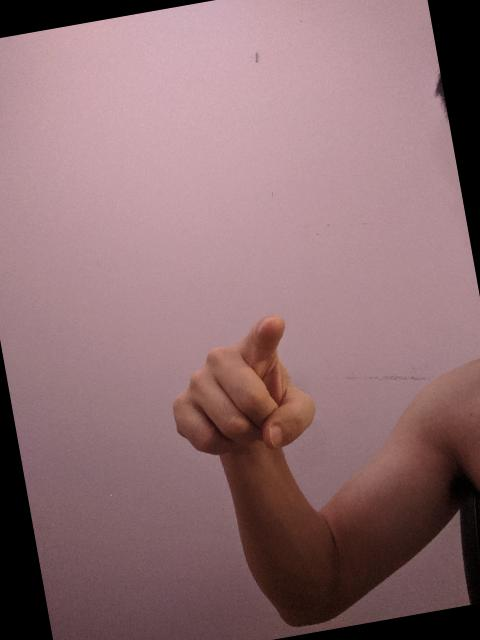Z: (154, 304, 325, 470)
